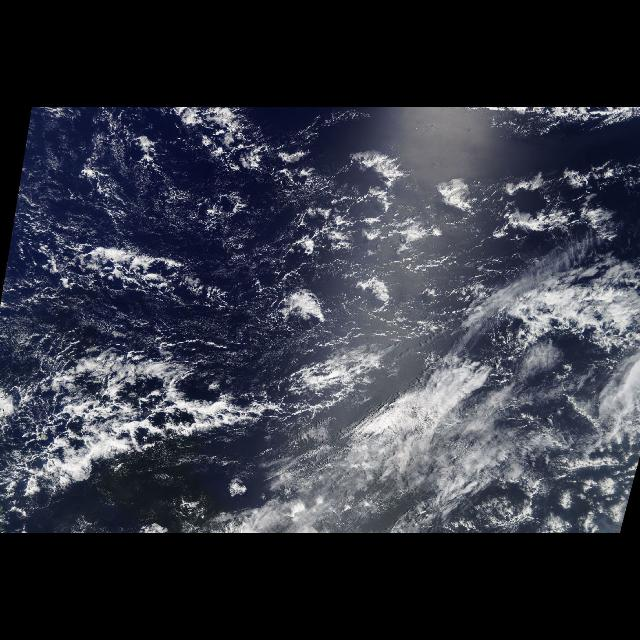Fish: (1, 326, 258, 504)
